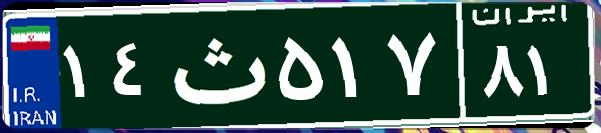1: (330, 28, 385, 110), (57, 26, 110, 107), (525, 38, 570, 115)
4: (110, 28, 158, 105)
5: (273, 28, 330, 110)
7: (385, 28, 445, 110)
8: (475, 38, 525, 113)
ث: (158, 15, 273, 115)
